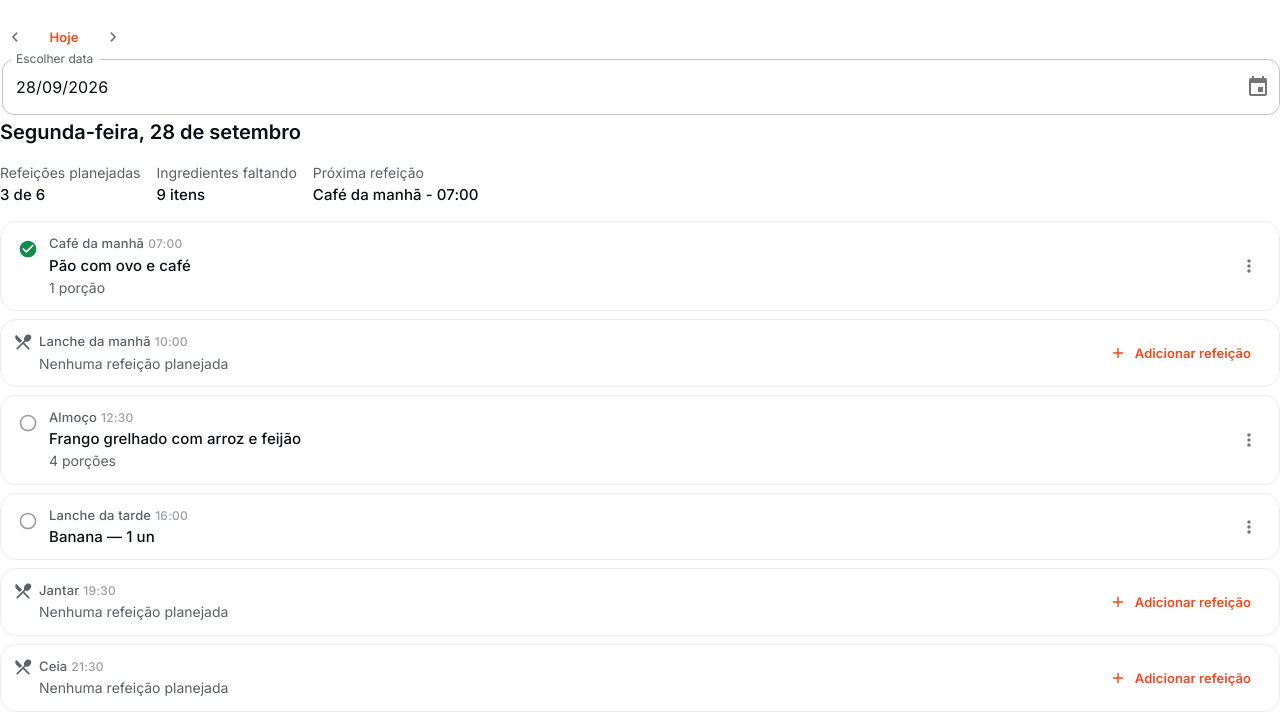
Test: TodayPage › opens "Adicionar refeição" for an empty slot and adds a note
(page scrolled)
Check: the text "Ceia" is shown, box [39,657,67,675]
Click the button "Adicionar refeição" in the row of "21:30" at (1181, 678), box [1095,660,1267,696]
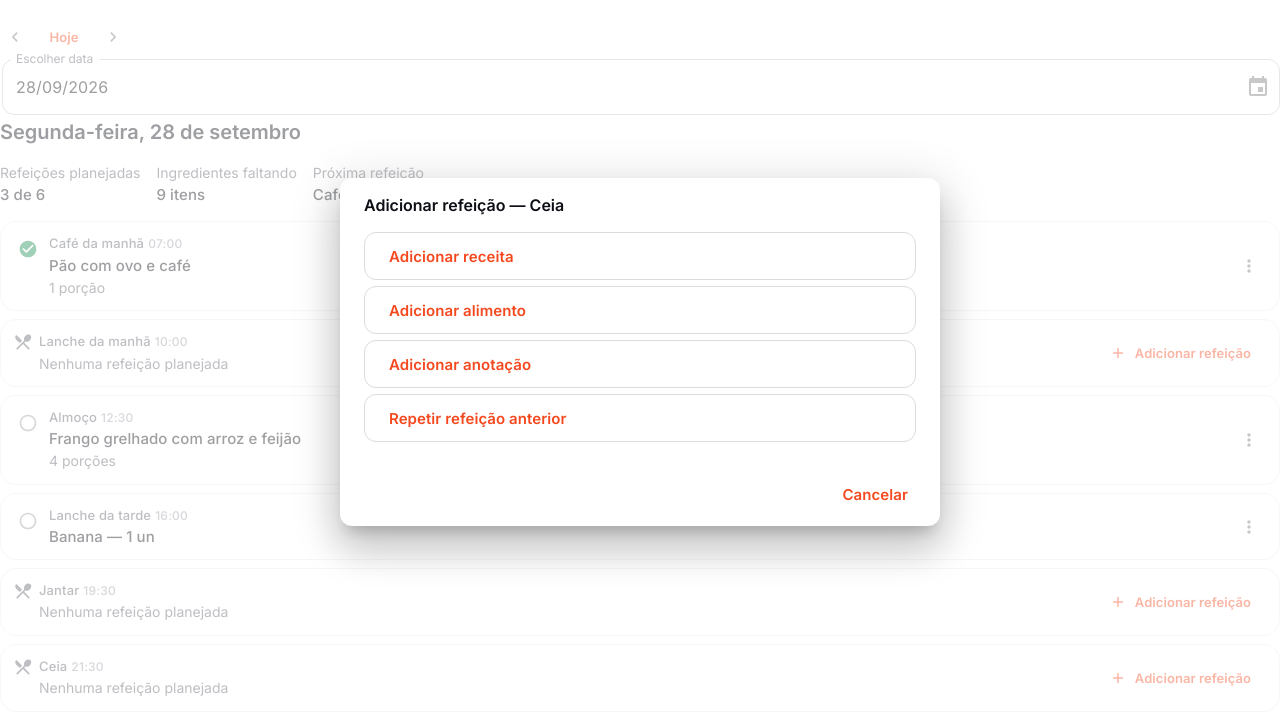
Click the button "Adicionar anotação" at (460, 364), box [364,340,916,388]
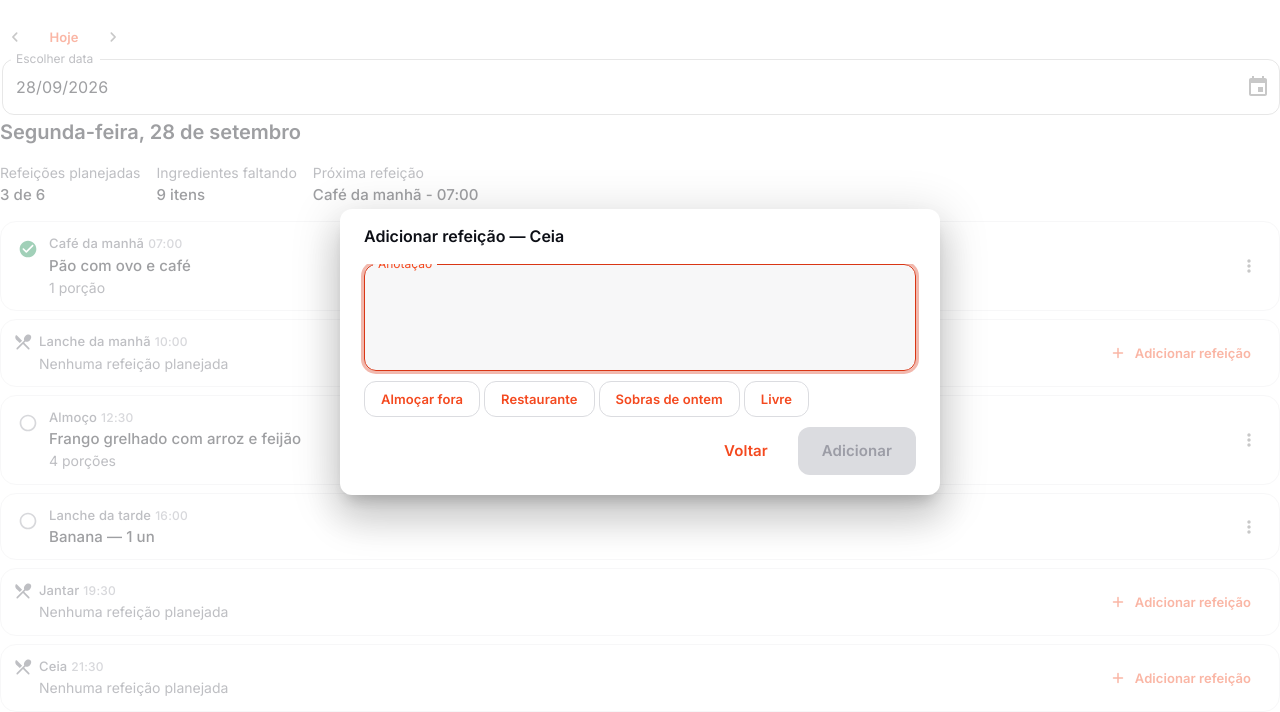
Click the button "Livre" at (776, 399), box [744,381,809,417]
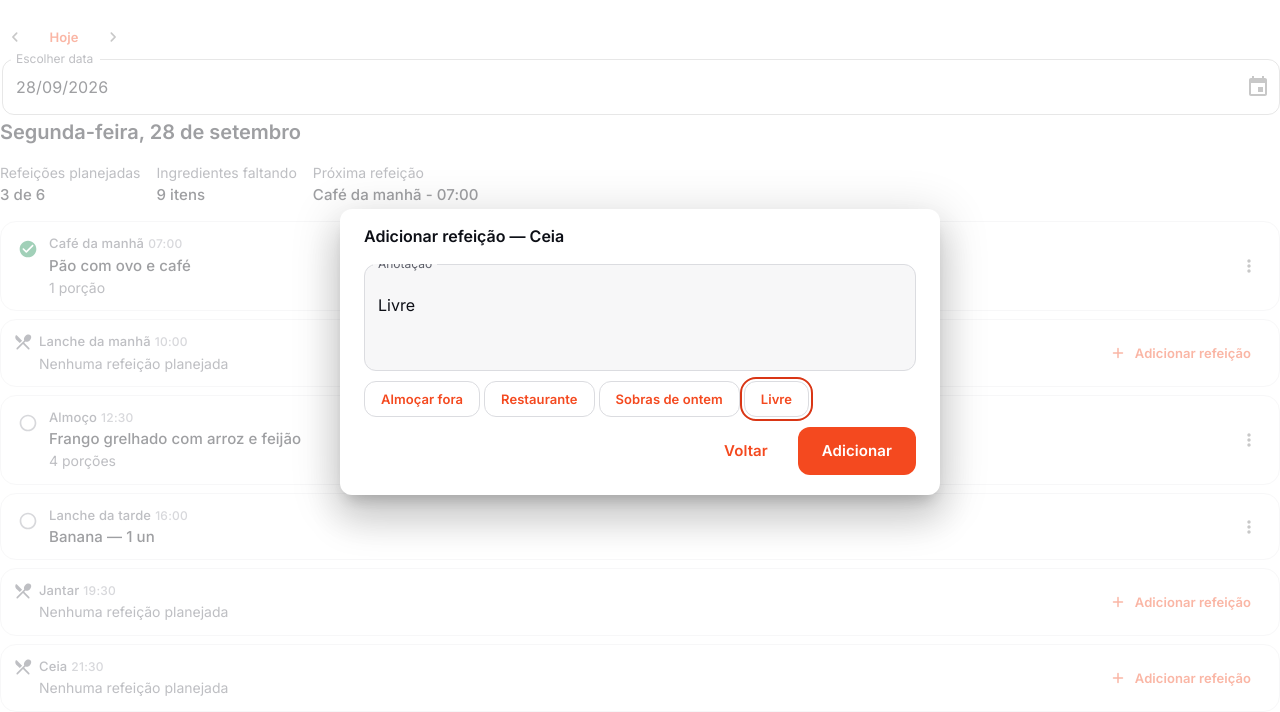
Click the button "Adicionar" at (857, 451), box [798,427,916,475]
(page scrolled)
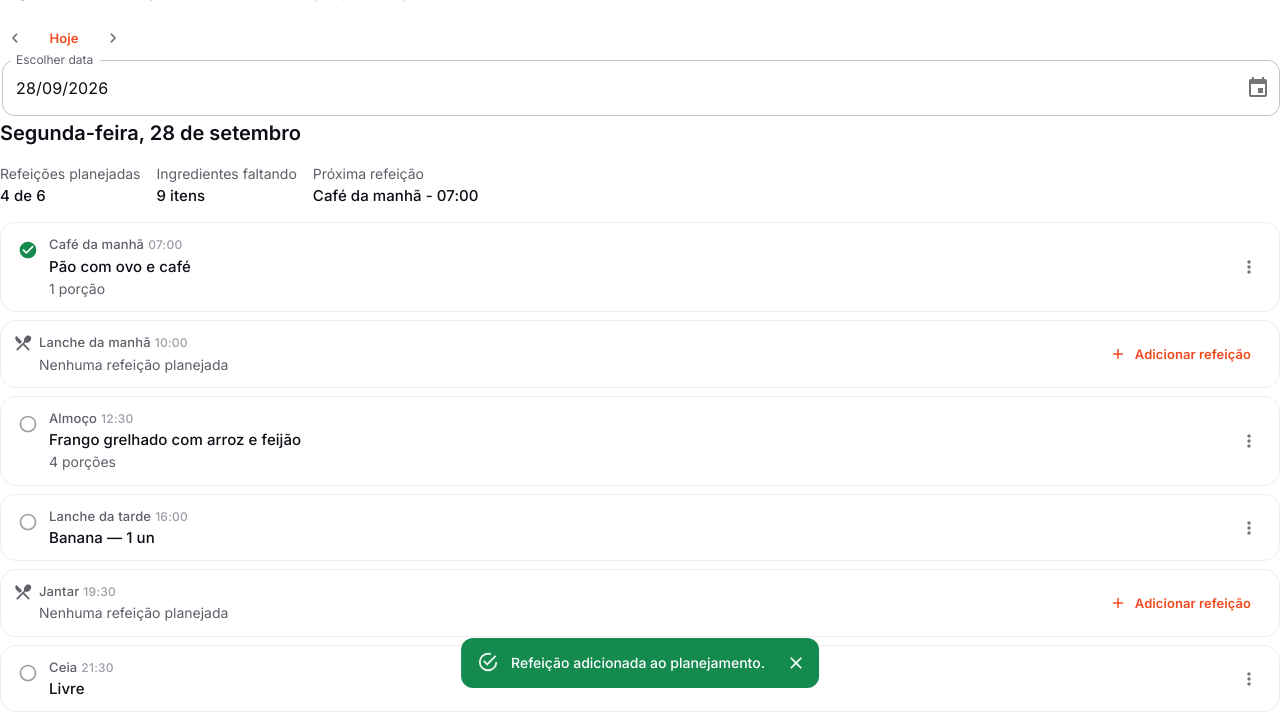
Check: the text "Refeição adicionada ao planejamento." is shown, box [511,654,765,671]
